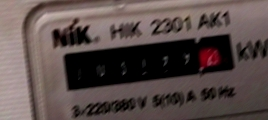0: (94, 58, 107, 78), (71, 62, 82, 81)
1: (137, 51, 148, 70)
3: (115, 56, 128, 77)
6: (203, 52, 215, 67)
9: (158, 48, 170, 68), (180, 47, 192, 66)
screen: (55, 24, 241, 97)
